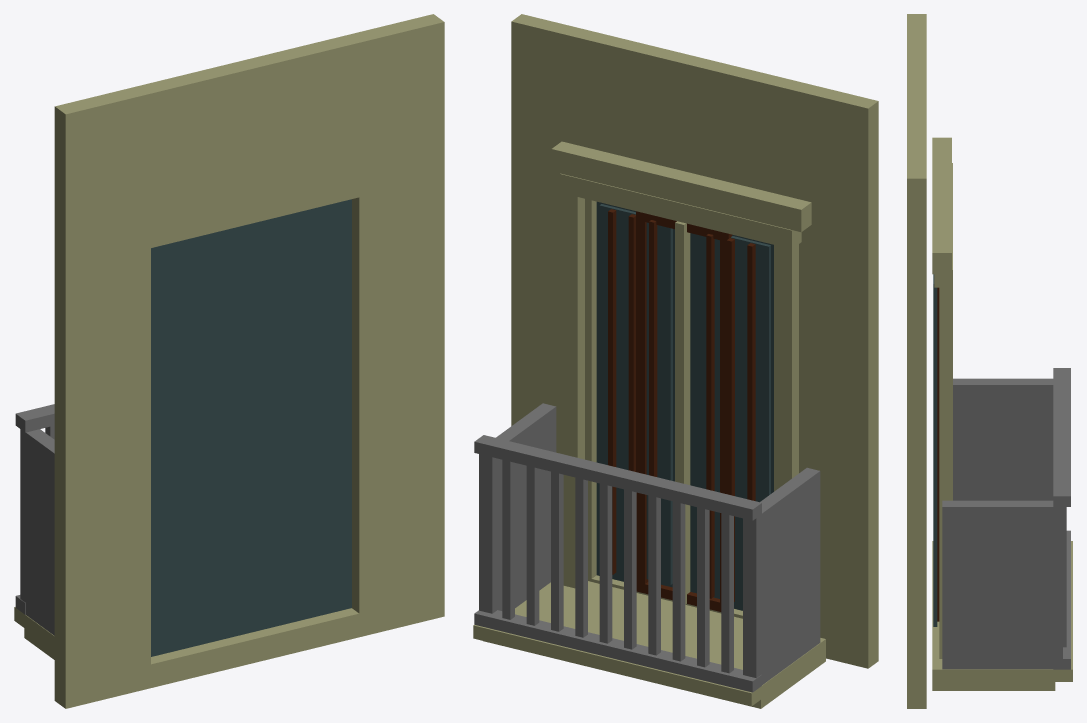
The model's file is gn_balcony_door_bay_2m.glb.
3 views of the same model, side by side, from view 1: azimuth 30°, elevation 25°; view 2: azimuth 150°, elevation 25°; view 3: azimuth 270°, elevation 25° (orthographic). The views are drawn at different scales.
Visible parts, largest first — view 1: GnBalconyDoorBay; view 2: GnBalconyDoorBay; view 3: GnBalconyDoorBay.
Part boxes in pixels (box(x1,y1,x2,y2)): GnBalconyDoorBay: box(14, 14, 444, 708); GnBalconyDoorBay: box(473, 14, 878, 708); GnBalconyDoorBay: box(907, 14, 1072, 708).
Size of the model in its own units: 2 by 3 by 0.85.
